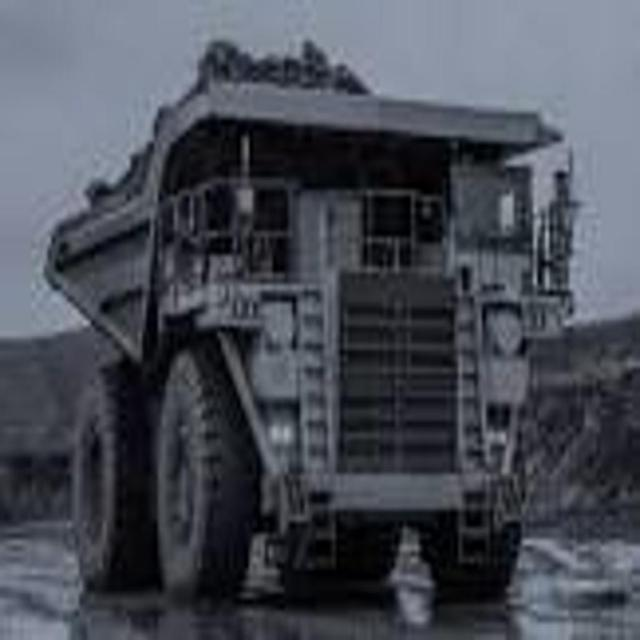dump_truck: (38, 25, 585, 620)
